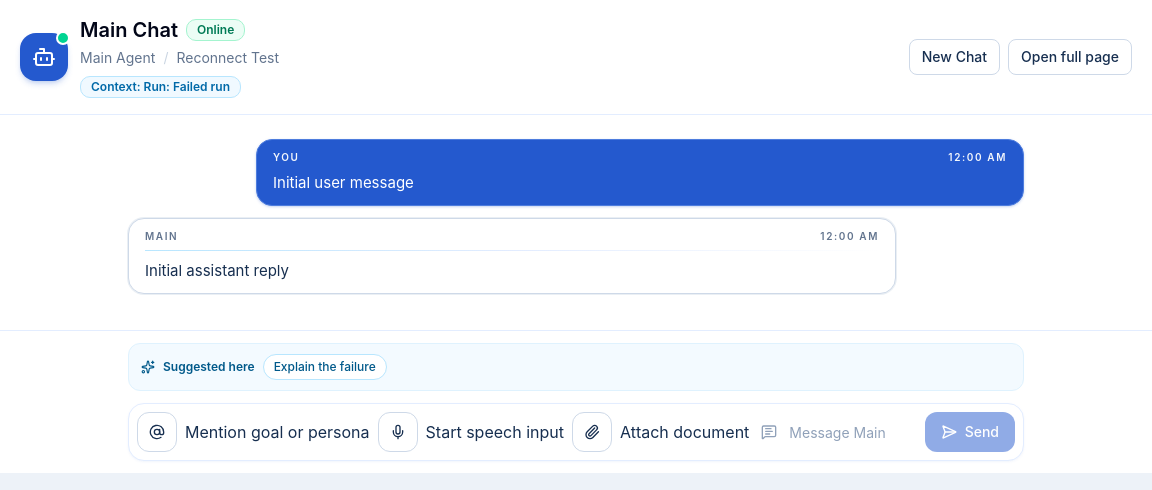
Test: ConversationWorkspace › offers safe page-specific prompts that only prefill the popup composer
Expected: the text "Initial assistant reply" is shown, [145,261,289,280]
Click the button with aria-label "Use suggestion: Explain the failure" at (325, 367), box [263,354,387,380]
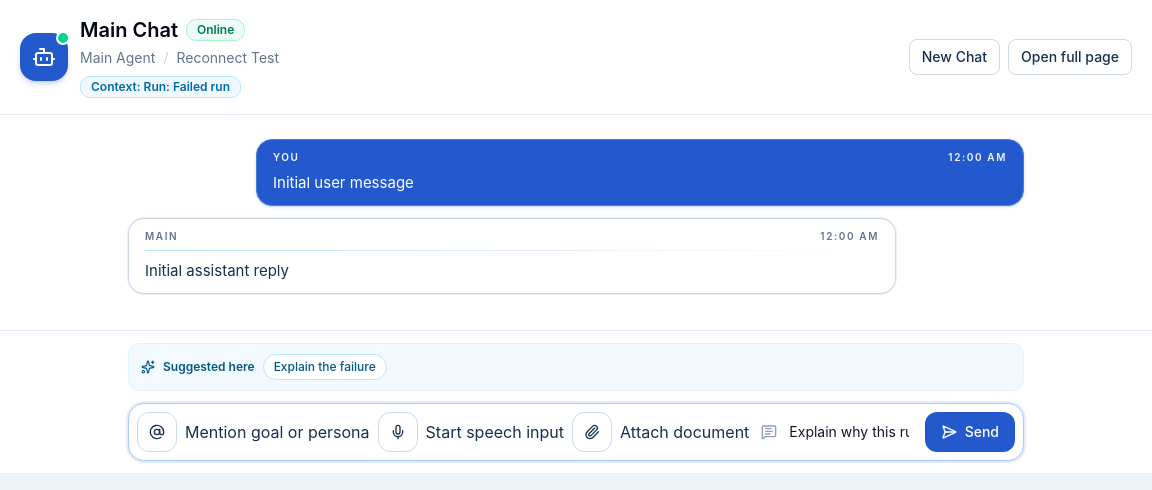
Now the field named "Message Main" holds "Explain why this run failed using the first actionable error.", box [785,412,913,452]
